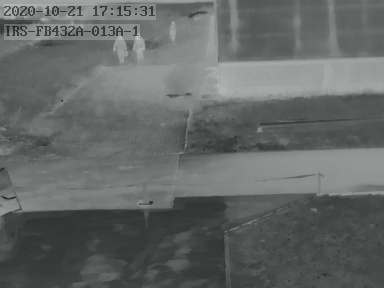person: (114, 33, 127, 65), (132, 33, 145, 61), (168, 20, 177, 42)
